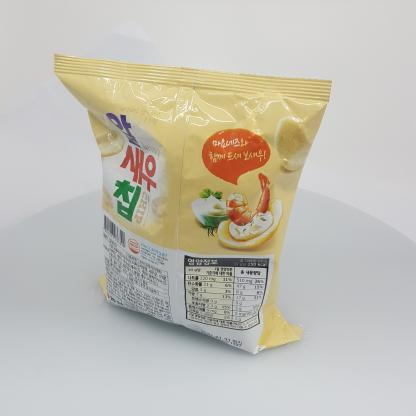Plastic Packaging: (41, 43, 338, 361)
